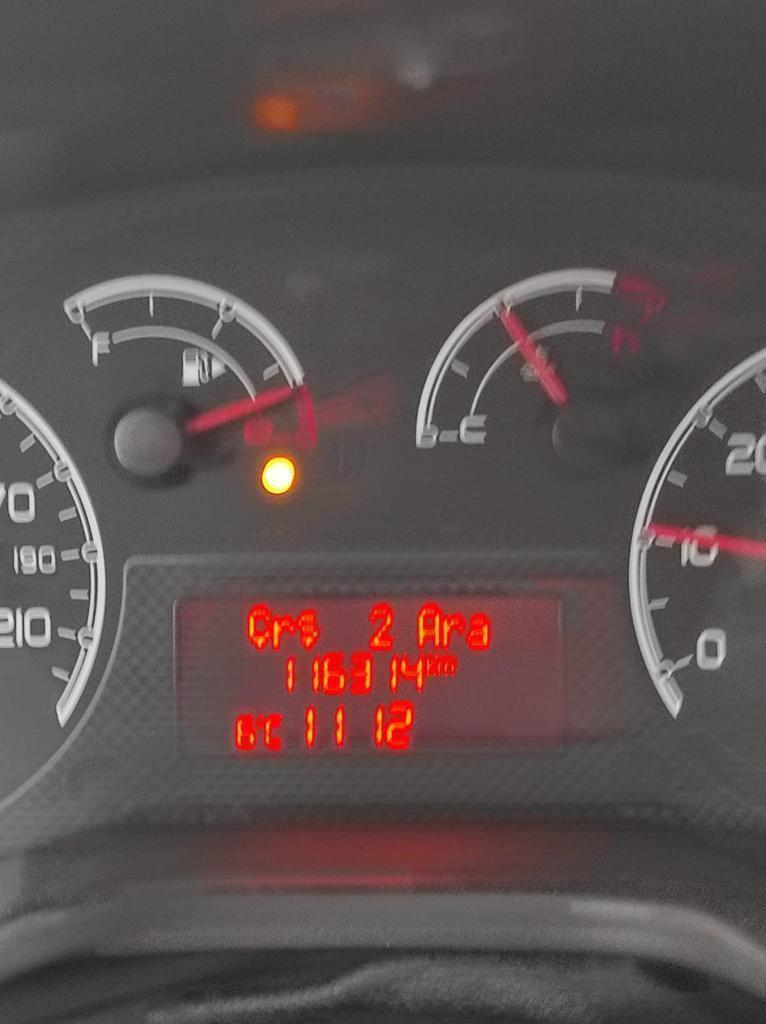1: (302, 702, 320, 750), (332, 702, 347, 752), (283, 652, 297, 695), (373, 701, 383, 749), (310, 653, 321, 696), (389, 654, 399, 692)
2: (385, 700, 418, 750), (368, 602, 394, 651)
3: (349, 651, 372, 694)
4: (401, 653, 422, 692)
6: (322, 649, 346, 696), (235, 713, 256, 750)
X: (416, 601, 442, 650), (248, 602, 272, 652), (296, 607, 321, 650), (466, 612, 490, 650), (274, 612, 295, 652), (444, 611, 465, 648), (265, 712, 284, 752), (438, 654, 459, 677), (425, 651, 438, 678)
odometer: (172, 584, 578, 772)
